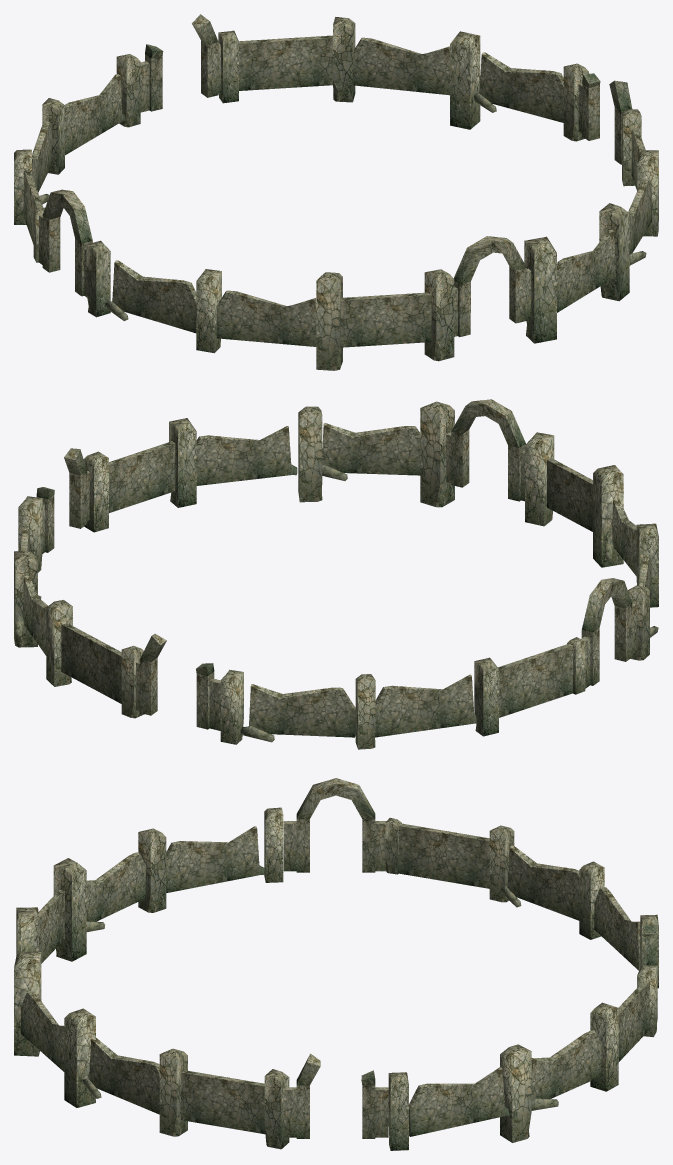
The model's file is poi_nboo_gungan_corral_64x64_s01_l1.fbx.
3 renders of one model, top to bottom at view 1: azimuth 30°, elevation 25°; view 2: azimuth 150°, elevation 25°; view 3: azimuth 270°, elevation 25°, orthographic.
Parts seen in each view (by area): view 1: mesh_node; view 2: mesh_node; view 3: mesh_node.
Boxes of the visible parts, left/top/right/bottom form: mesh_node: left=14, top=14, right=658, bottom=370; mesh_node: left=14, top=399, right=658, bottom=749; mesh_node: left=14, top=778, right=658, bottom=1150.
Bounding box in the file's own units: 49.5 × 9.73 × 49.14.
